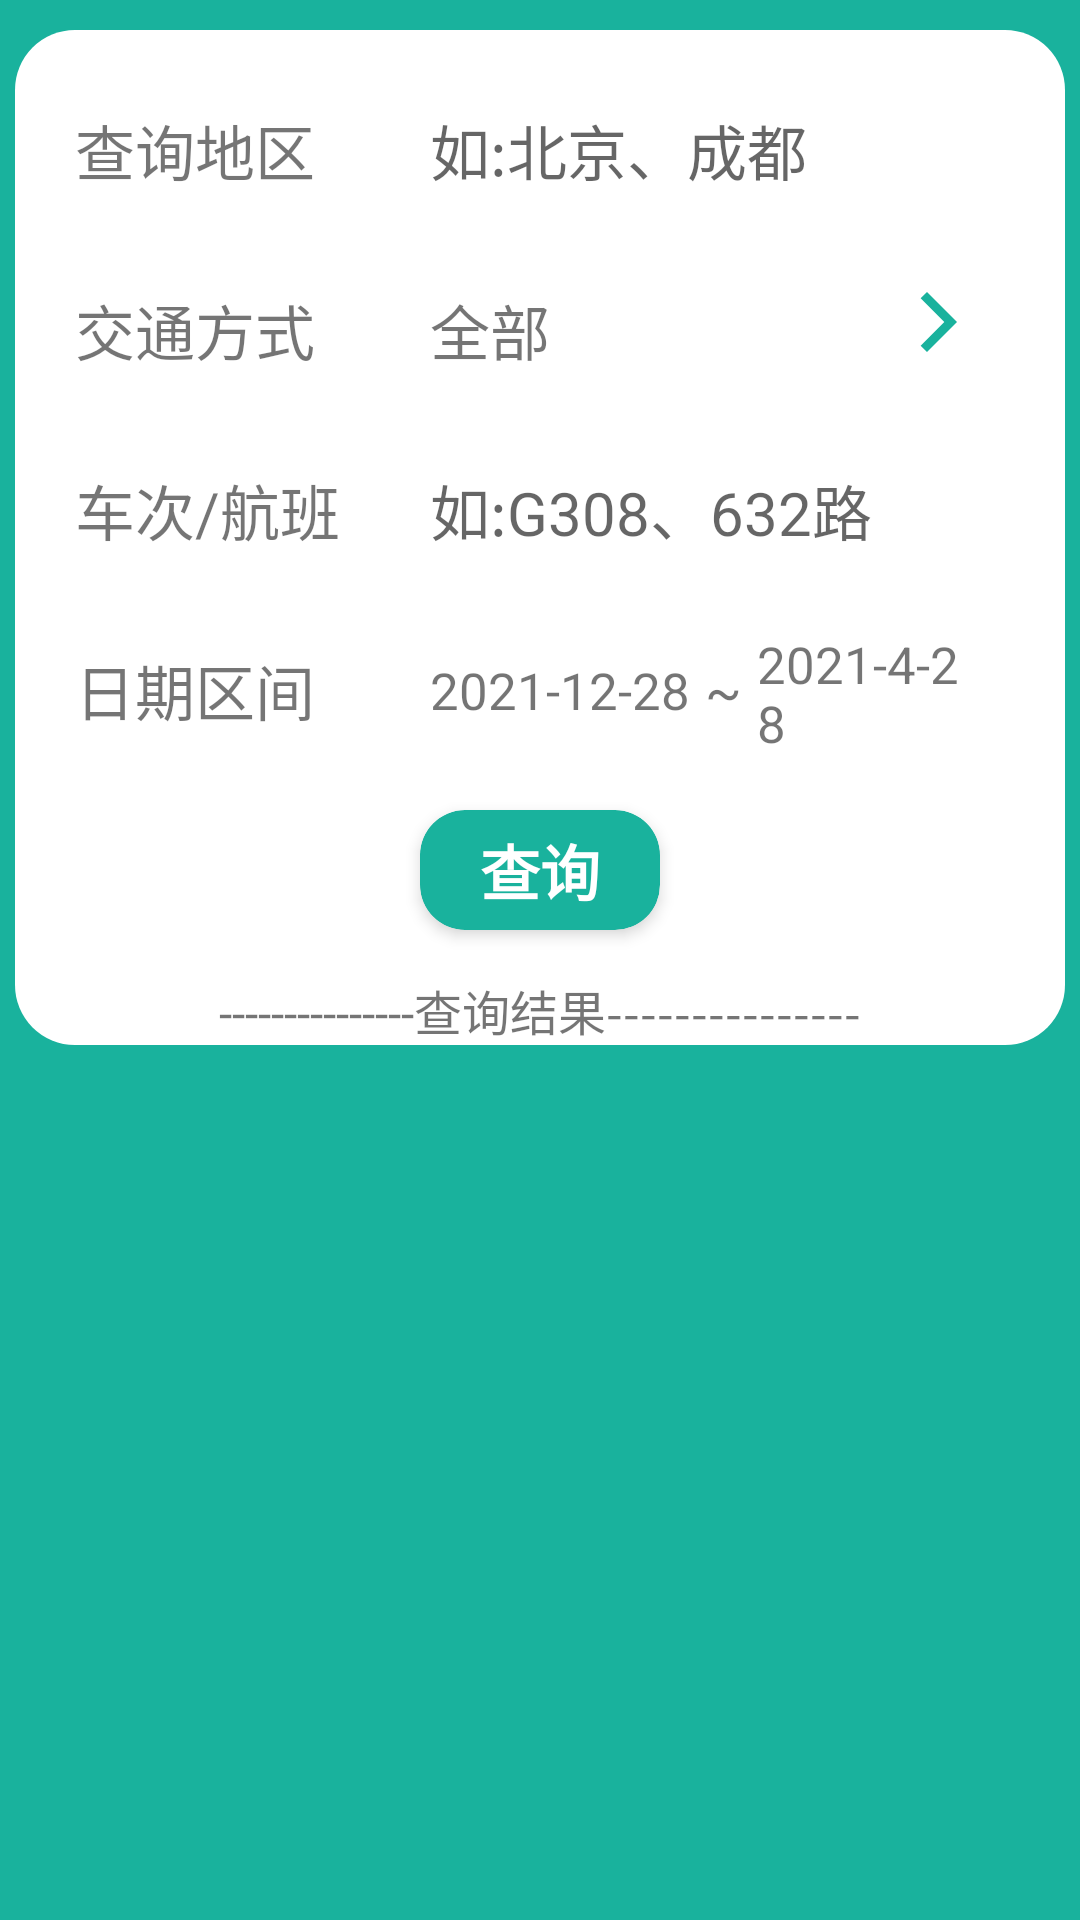

Where to tap for icons on this 1080×1920 app screen, as (x=x, y=y):
arrow forward: (x=938, y=322)
